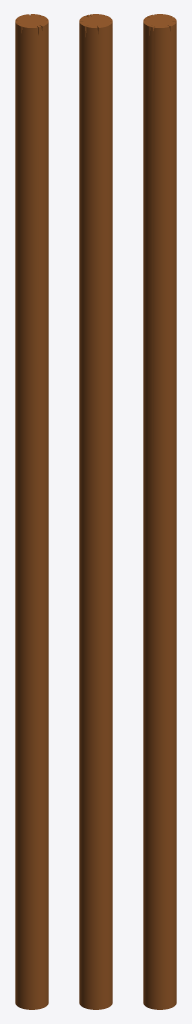
Rendered from Building_Modular_Jetty_Walkway_Timber_Upright_Beam_03.fbx.
The picture shows the model from 3 angles, left to right: view 1: azimuth 30°, elevation 25°; view 2: azimuth 210°, elevation 25°; view 3: azimuth 330°, elevation 25°; orthographic projection.
Visible parts, largest first — view 1: Building_Modular_Jetty_Walkway_Timber_Upright_Beam_03; view 2: Building_Modular_Jetty_Walkway_Timber_Upright_Beam_03; view 3: Building_Modular_Jetty_Walkway_Timber_Upright_Beam_03.
Boxes of the visible parts, box(x1,y1,x2,y2) form: Building_Modular_Jetty_Walkway_Timber_Upright_Beam_03: box(15, 14, 48, 1009); Building_Modular_Jetty_Walkway_Timber_Upright_Beam_03: box(79, 14, 112, 1009); Building_Modular_Jetty_Walkway_Timber_Upright_Beam_03: box(143, 14, 176, 1009).
Size of the model in its own units: 13.29 by 430 by 13.29.
